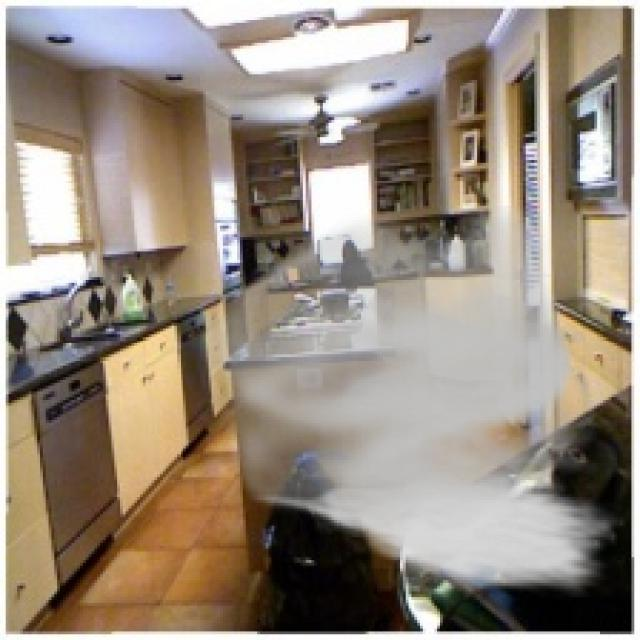Smoke: (197, 205, 623, 598)
